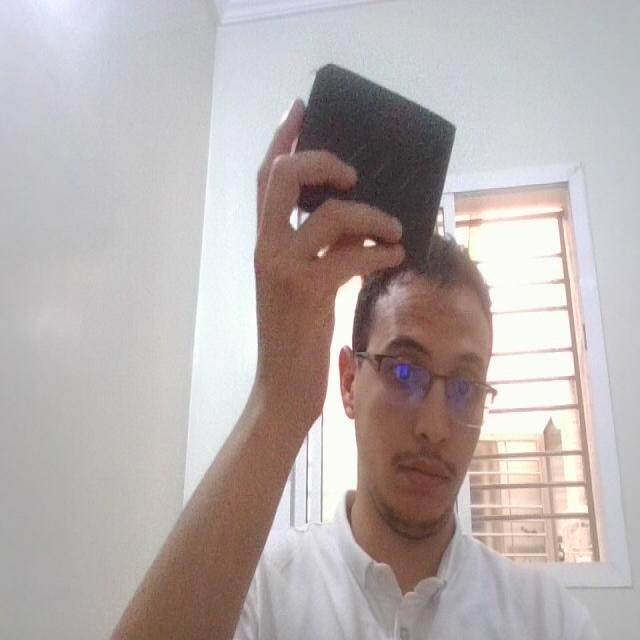wallet: (290, 55, 463, 282)
